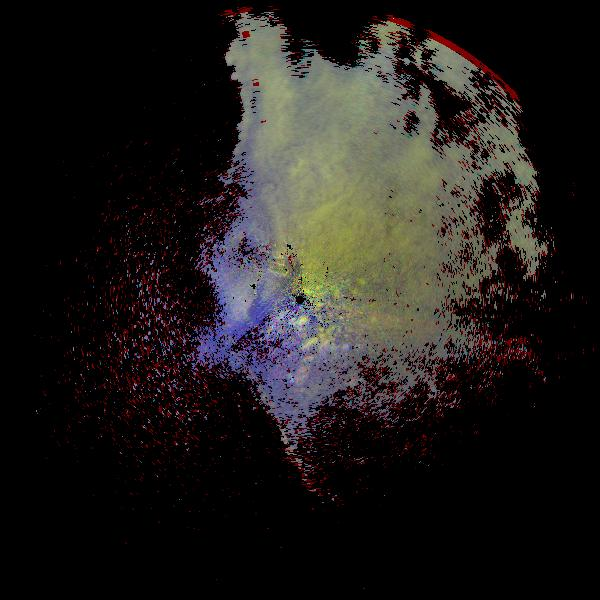roost: (269, 346, 326, 403)
